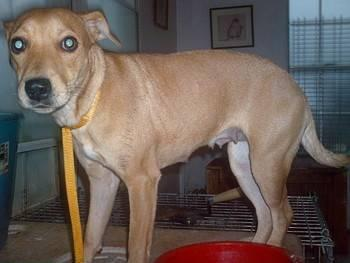dog: (4, 8, 349, 262)
